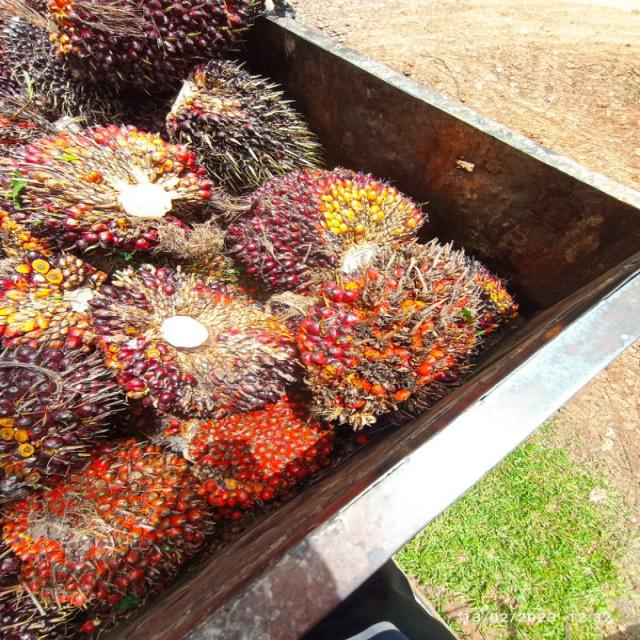fraksi 00: (148, 56, 316, 182)
fraksi 1: (0, 105, 224, 262), (94, 261, 292, 418)
fraksi 3: (284, 270, 498, 453), (216, 155, 431, 289)
fraksi 4: (0, 436, 238, 615), (162, 381, 345, 508)
